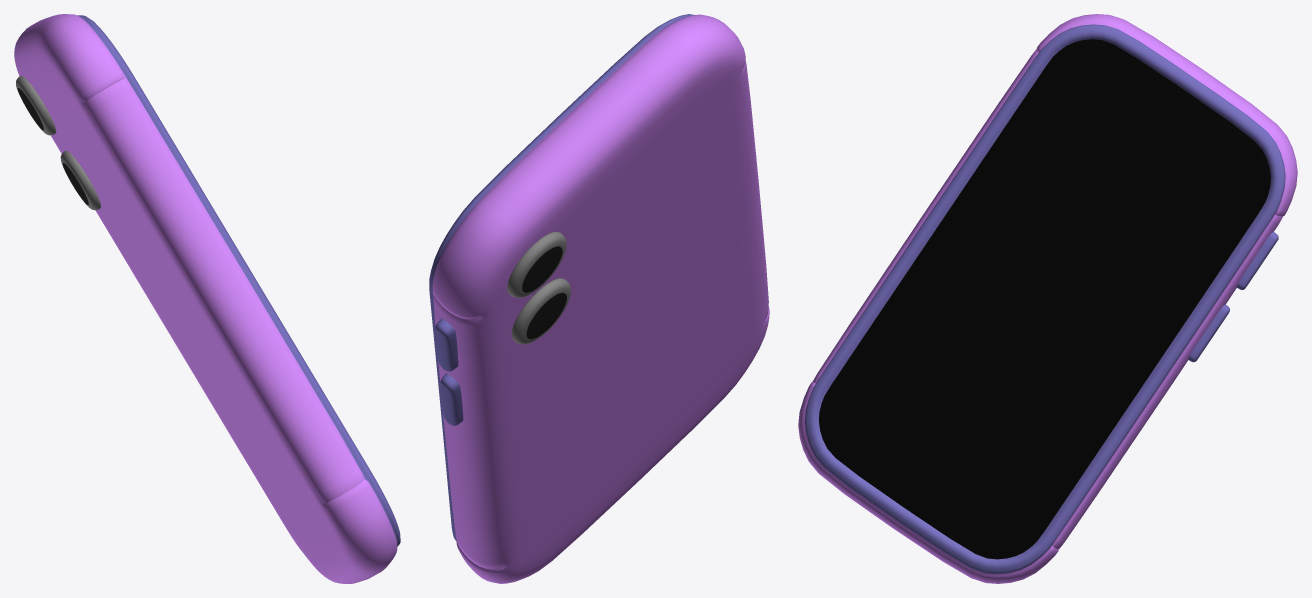
Rendered from minimal_phone.glb.
The picture shows the model from 3 angles, left to right: view 1: azimuth 30°, elevation 25°; view 2: azimuth 150°, elevation 25°; view 3: azimuth 270°, elevation 25°; orthographic projection. The views are drawn at different scales.
Parts seen in each view (by area): view 1: phone_high.001_phone_1_0, phone_high.001_phone_2_0, phone_high.001_phone_4_0, phone_high.001_phone_5_0; view 2: phone_high.001_phone_1_0, phone_high.001_phone_2_0, phone_high.001_phone_4_0, phone_high.001_phone_5_0; view 3: phone_high.002_phone_3_0, phone_high.001_phone_2_0, phone_high.001_phone_1_0.
Boxes of the visible parts, x1,y1,x2,y2 form: phone_high.001_phone_1_0: (14, 14, 397, 583); phone_high.001_phone_2_0: (77, 15, 400, 546); phone_high.001_phone_4_0: (16, 76, 100, 210); phone_high.001_phone_5_0: (17, 88, 88, 204); phone_high.001_phone_1_0: (432, 14, 769, 583); phone_high.001_phone_2_0: (429, 14, 694, 541); phone_high.001_phone_4_0: (507, 231, 570, 344); phone_high.001_phone_5_0: (522, 246, 566, 339); phone_high.002_phone_3_0: (819, 39, 1270, 559); phone_high.001_phone_2_0: (805, 24, 1285, 573); phone_high.001_phone_1_0: (798, 14, 1297, 583).
Size of the model in its own units: 2.94 by 6.11 by 5.75.
